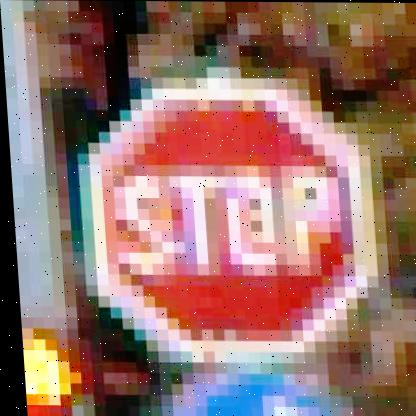Stop Sign: (87, 81, 385, 357)
